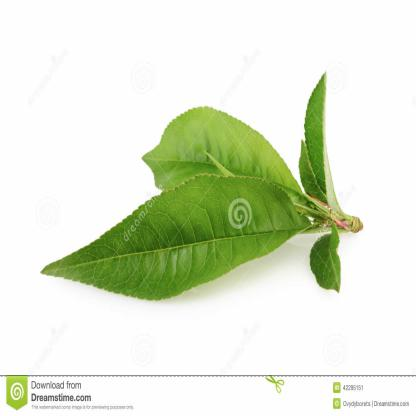Peach leaf: (31, 173, 312, 304), (138, 95, 303, 220), (305, 66, 340, 205), (308, 216, 345, 296)
